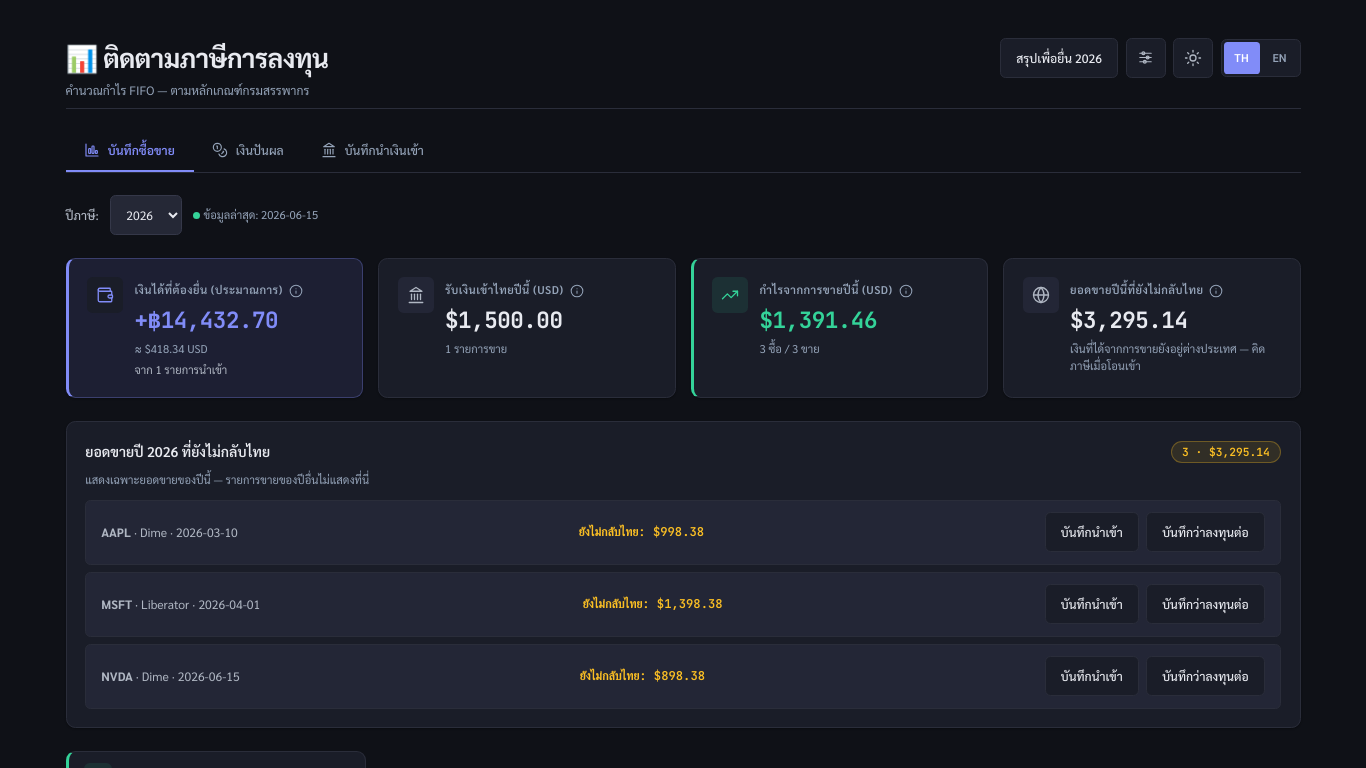
Test: tab-scoped capital-gain summary › shows no capital-gain card or provider row on the Remittances tab
This screenshot has width=1366, height=768.
What coordinates should you click on to do the following:
click the tab with class "tab-btn" showing "บันทึกนำเงินเข้า"
I would click on:
 (373, 151)
Its box is x1=302 y1=131 x2=443 y2=172.
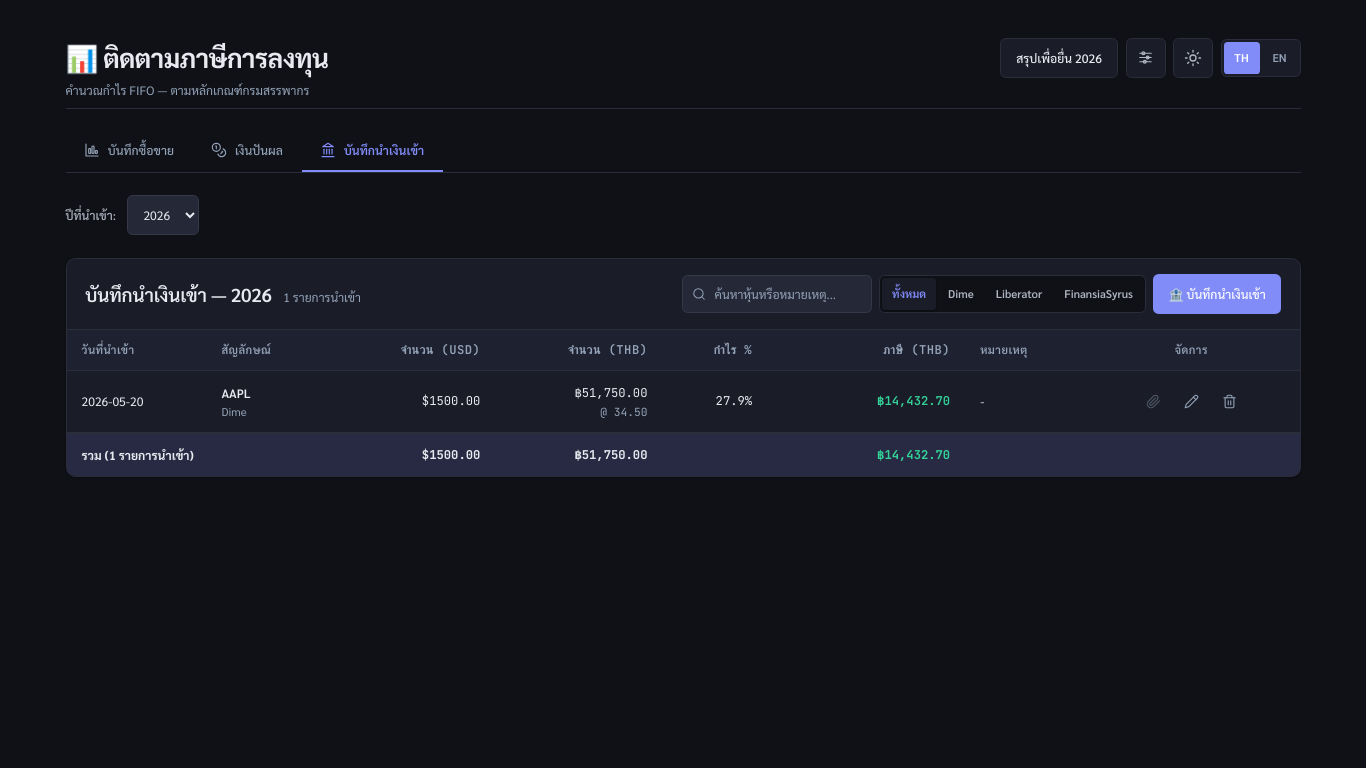
Expected: the label with id "year-select" is gone
Expected: no elements with class "kpi-card" are shown
